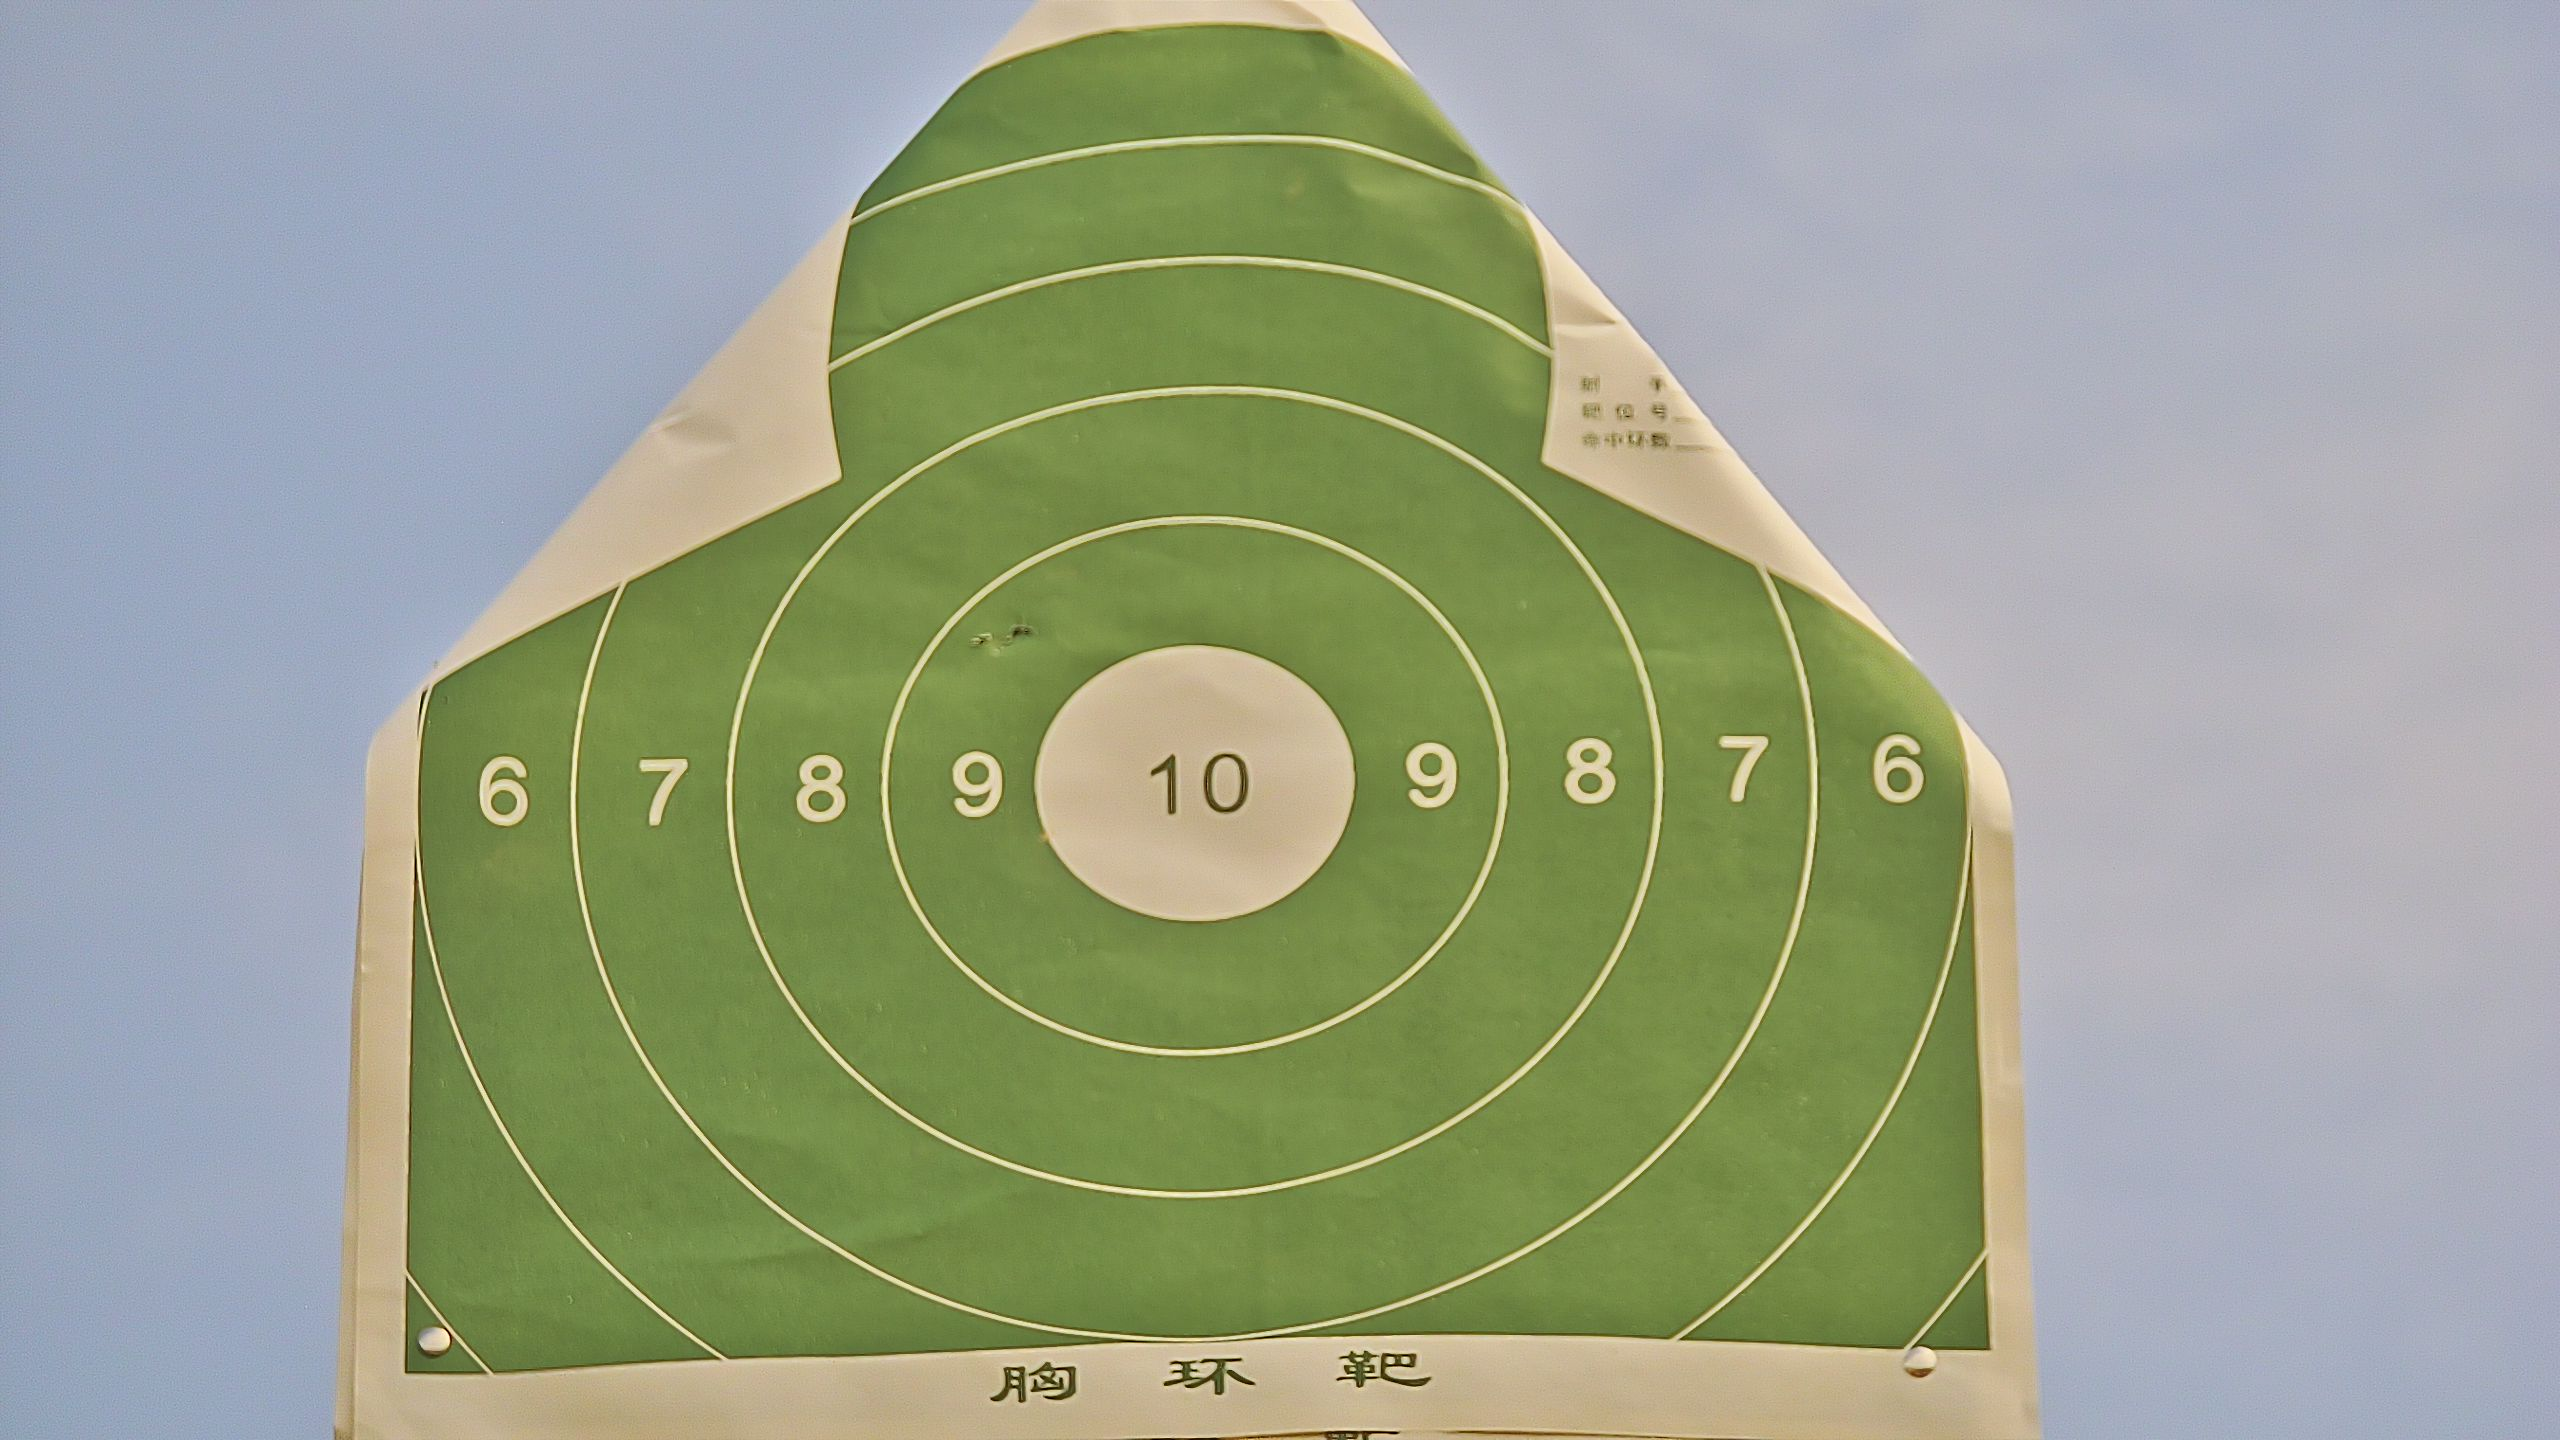target: (408, 5, 1989, 1373)
ten: (1034, 636, 1354, 927)
